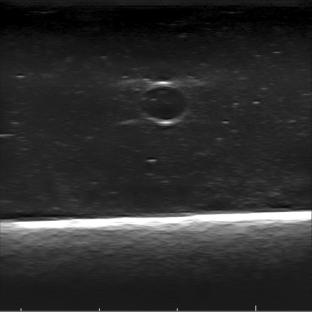vessel: (136, 80, 190, 125)
